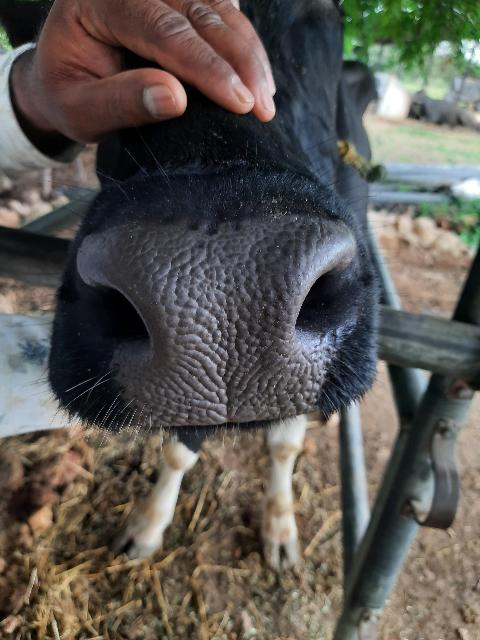Muzzle: (130, 232, 296, 420)
